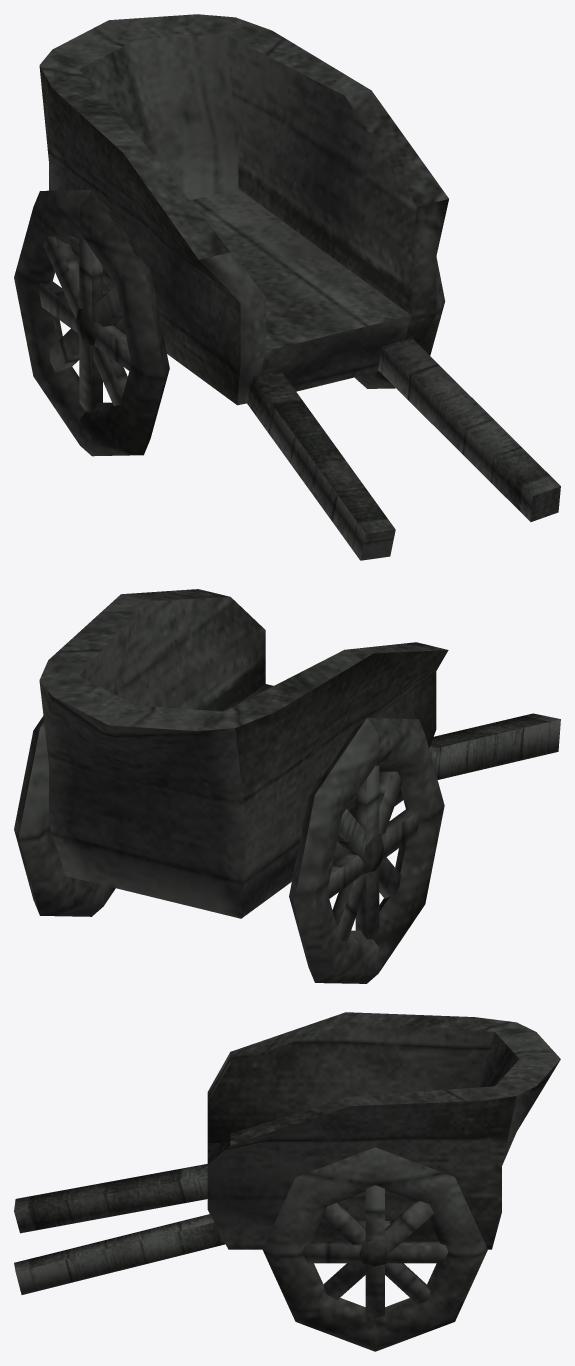
The model's file is cart.fbx.
The picture shows the model from 3 angles, top to bottom: view 1: azimuth 30°, elevation 25°; view 2: azimuth 150°, elevation 25°; view 3: azimuth 270°, elevation 25°; orthographic projection. The views are drawn at different scales.
Parts seen in each view (by area): view 1: Cube, Torus, Cube.001; view 2: Cube, Torus, Cube.001; view 3: Cube, Torus, Cube.001.
Boxes of the visible parts, x1,y1,x2,y2 form: Cube: (39, 14, 448, 405); Torus: (14, 190, 445, 456); Cube.001: (245, 337, 560, 560); Cube: (39, 589, 448, 918); Torus: (14, 716, 444, 983); Cube.001: (429, 713, 560, 779); Cube: (207, 1012, 560, 1249); Torus: (262, 1147, 487, 1351); Cube.001: (14, 1164, 225, 1294).
Size of the model in its own units: 306 by 306 by 629.
